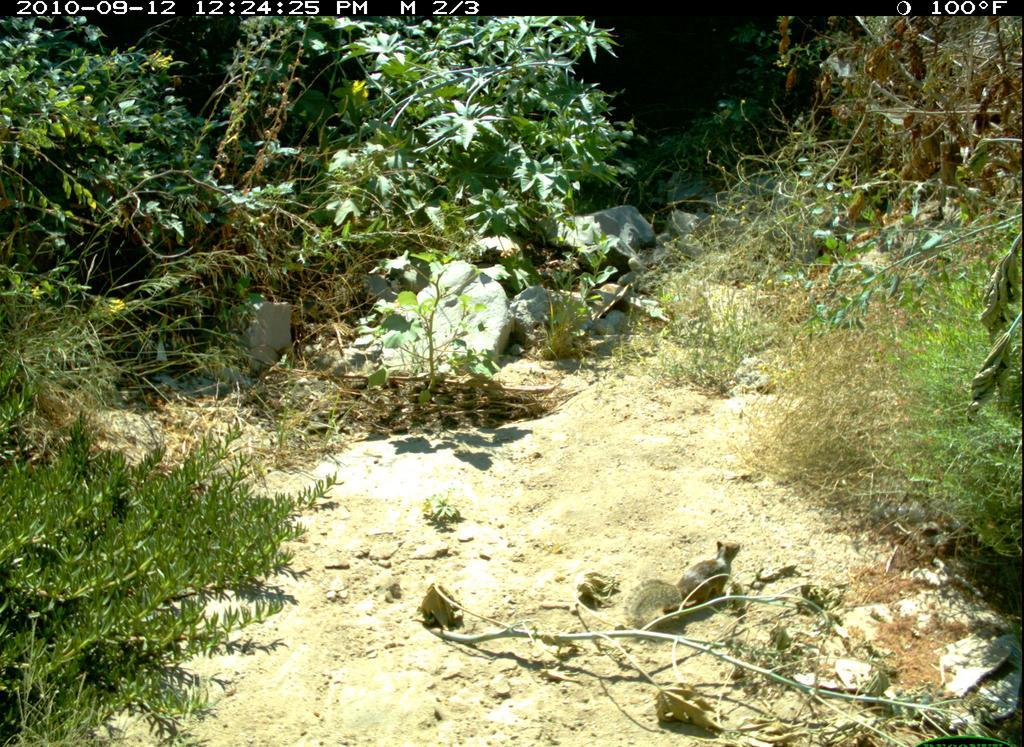squirrel: (617, 524, 752, 638)
